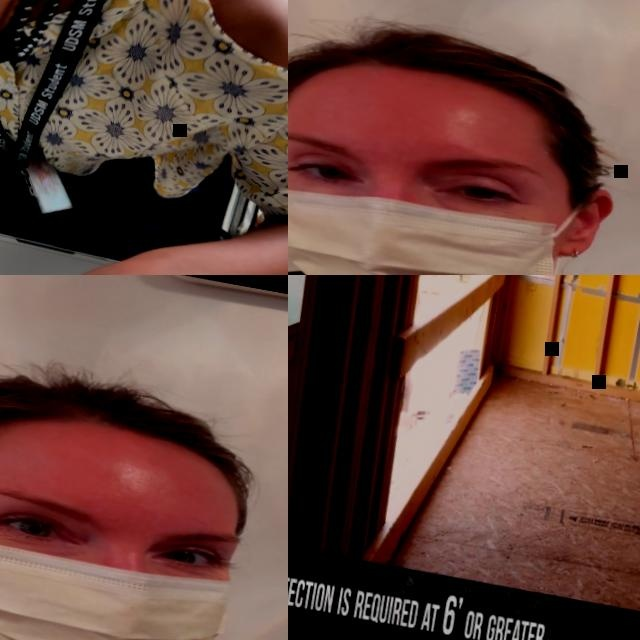Mask: (288, 122, 576, 275), (0, 479, 233, 640)
NO-Hardhat: (288, 0, 590, 144), (0, 344, 259, 496)
NO-Safety Vest: (0, 0, 259, 199)
Person: (288, 0, 640, 275), (0, 313, 288, 640), (0, 0, 288, 275)
